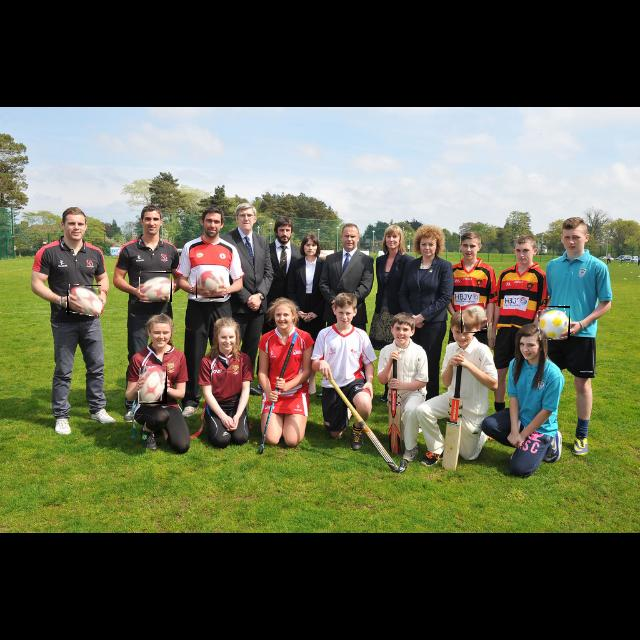Football: (538, 306, 570, 340), (139, 366, 167, 404), (67, 285, 101, 315), (140, 272, 172, 302), (196, 270, 224, 298), (461, 303, 487, 333)
